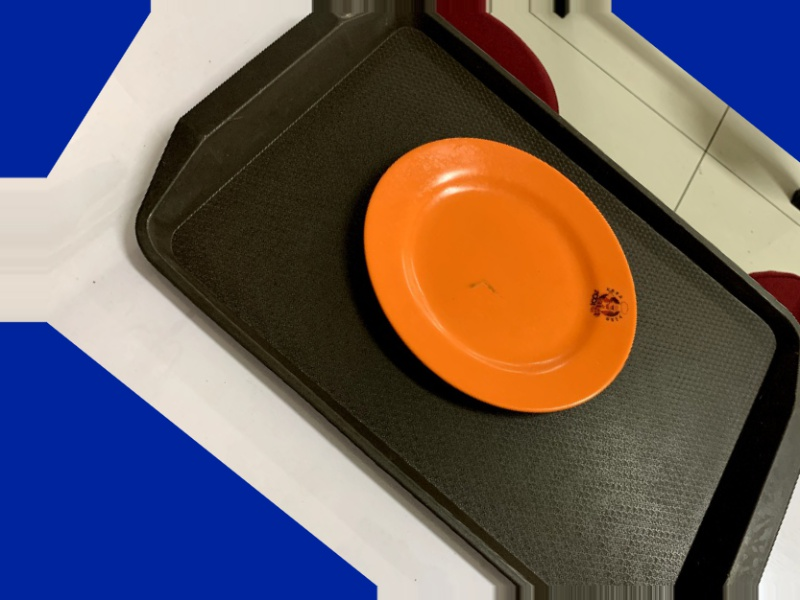dish10: (306, 69, 689, 480)
